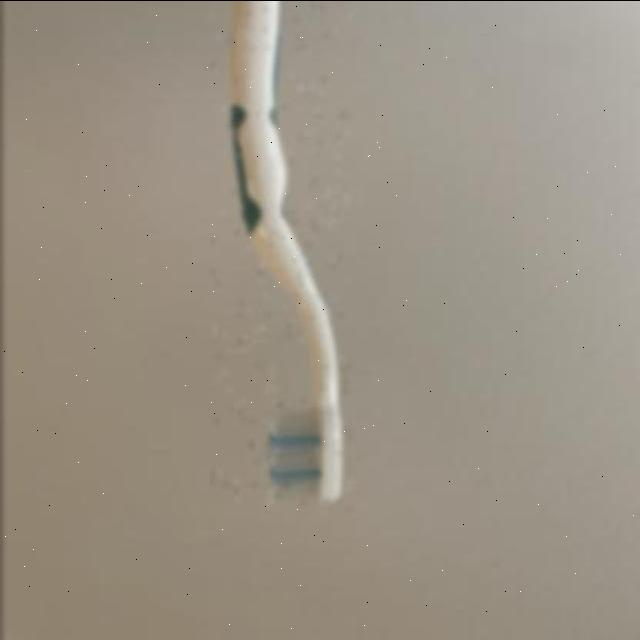toothbrush: (210, 0, 350, 518)
